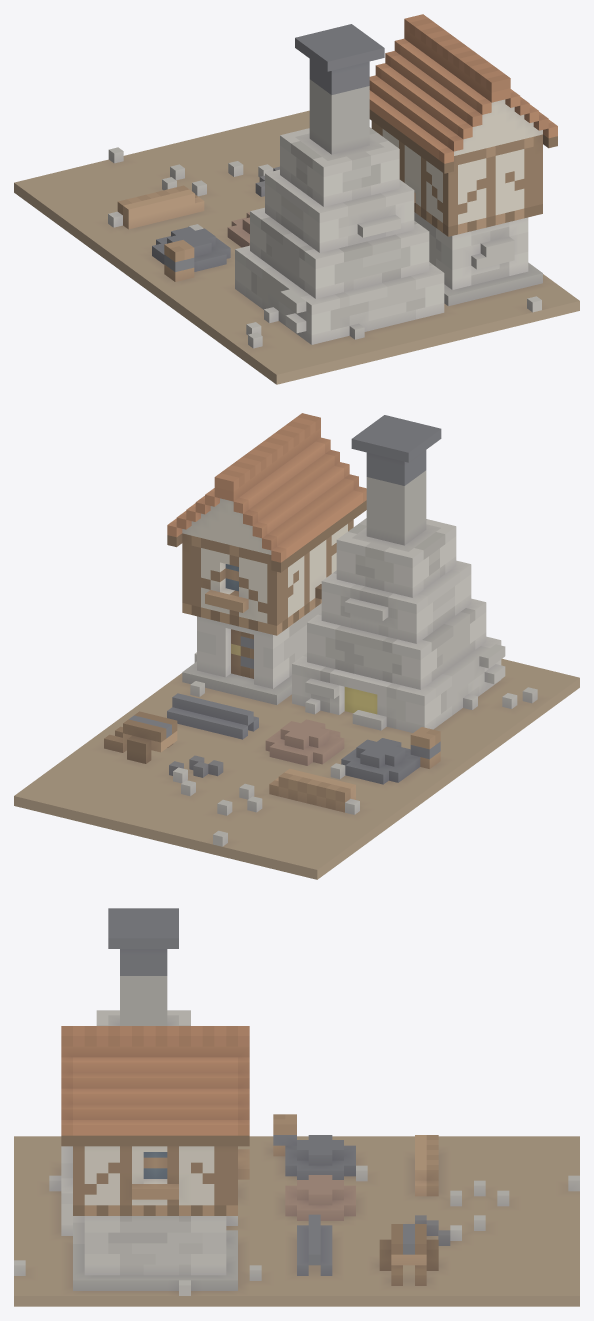
File: smelter.glb
3 views of the same model, one above another, from view 1: azimuth 30°, elevation 25°; view 2: azimuth 150°, elevation 25°; view 3: azimuth 270°, elevation 25° (orthographic). The views are drawn at different scales.
Parts seen in each view (by area): view 1: smelter; view 2: smelter; view 3: smelter.
Part boxes in pixels (<box>): smelter: <box>14,14,579,384</box>; smelter: <box>14,413,579,879</box>; smelter: <box>14,908,579,1306</box>.
Bounding box in the file's own units: 4 × 3.38 × 6.
